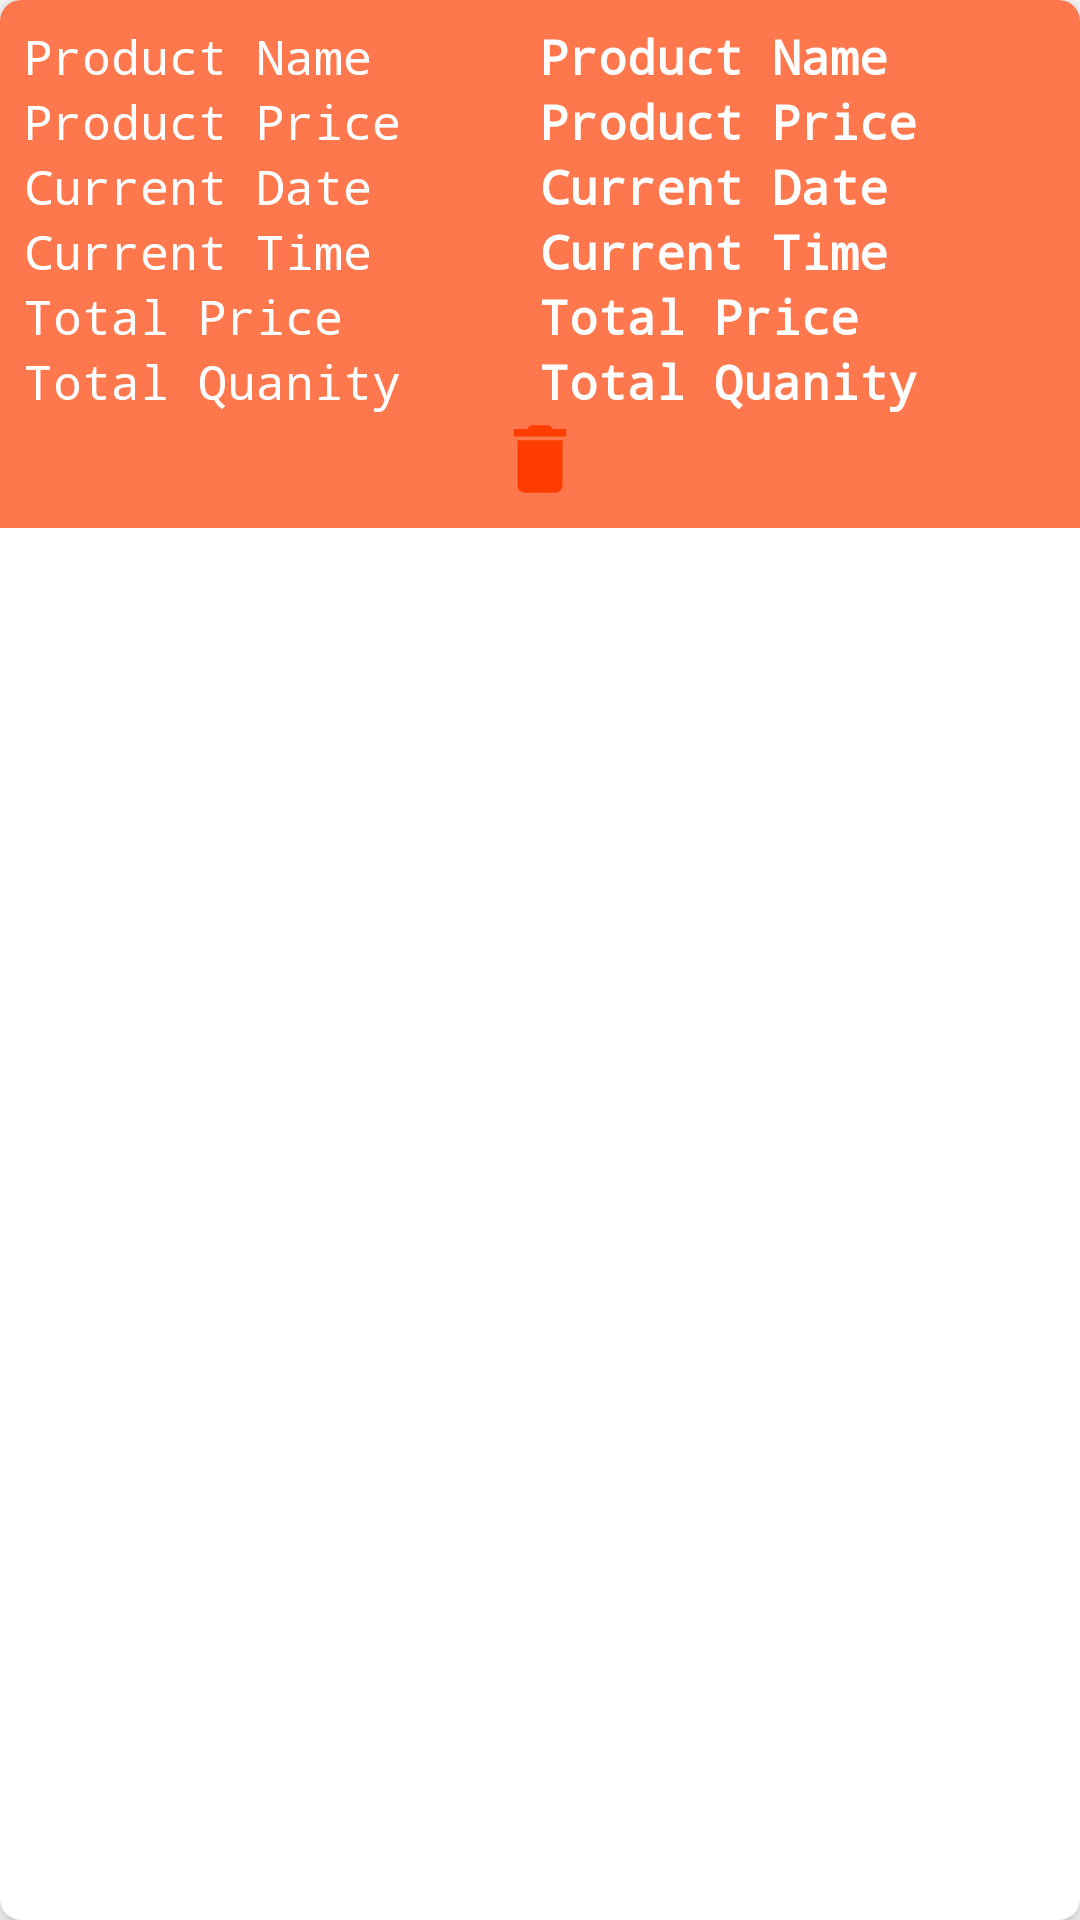

Where to tap for icons on this 1080px×1920px app screen, as [x,y]:
delete: [540,459]
